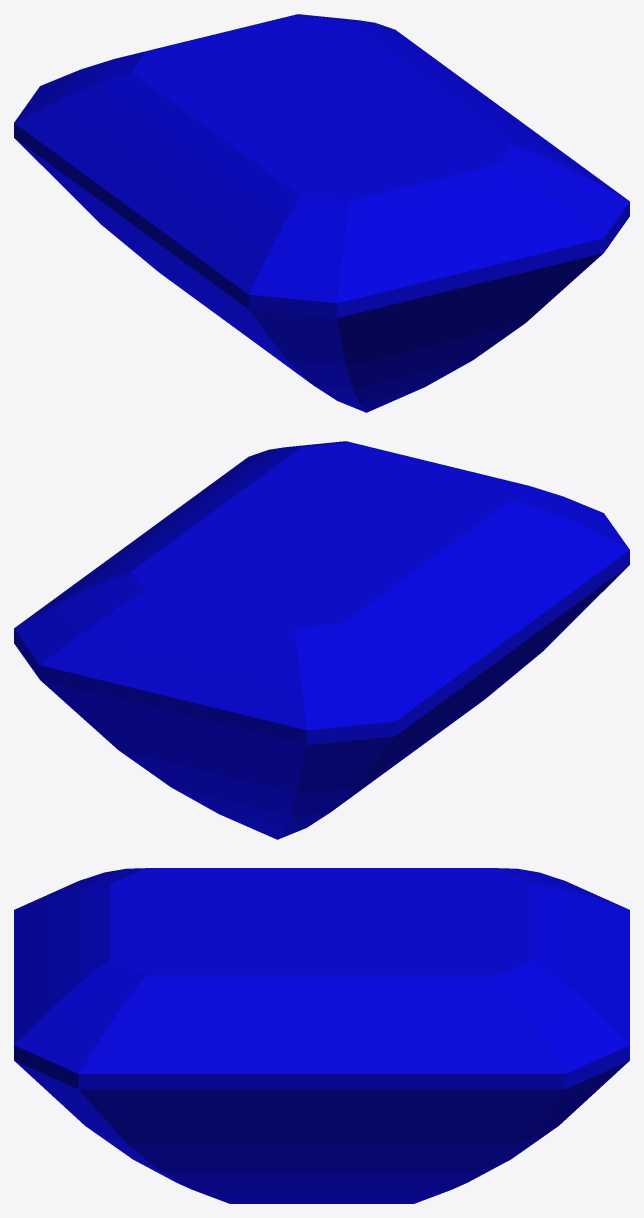
The model's file is Head_No Halo_Emerald_3.0ct_Diamond.glb.
The picture shows the model from 3 angles, top to bottom: view 1: azimuth 30°, elevation 25°; view 2: azimuth 150°, elevation 25°; view 3: azimuth 270°, elevation 25°; orthographic projection. The views are drawn at different scales.
Size of the model in its own units: 0.007 by 0.00476 by 0.00943.
